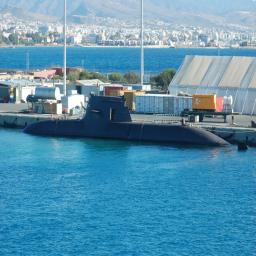submarine: (24, 97, 234, 148)
